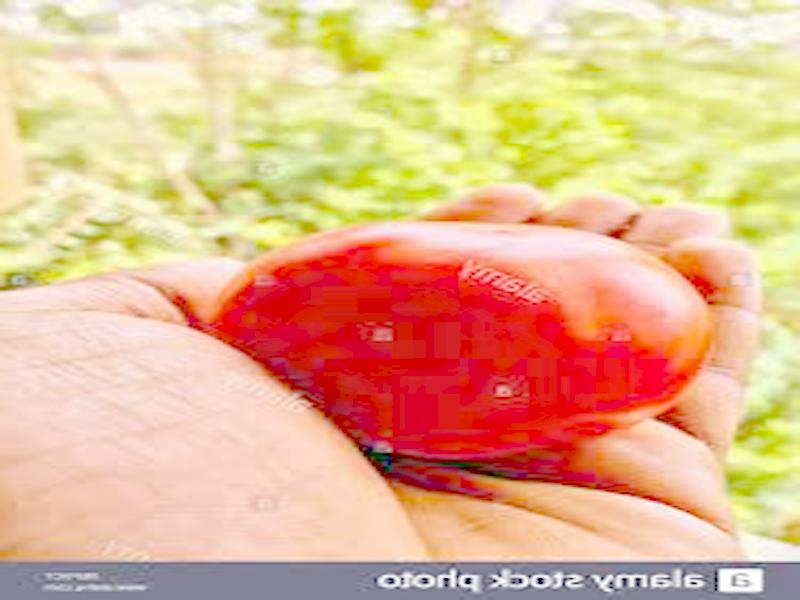Tomato: (216, 224, 710, 457)
